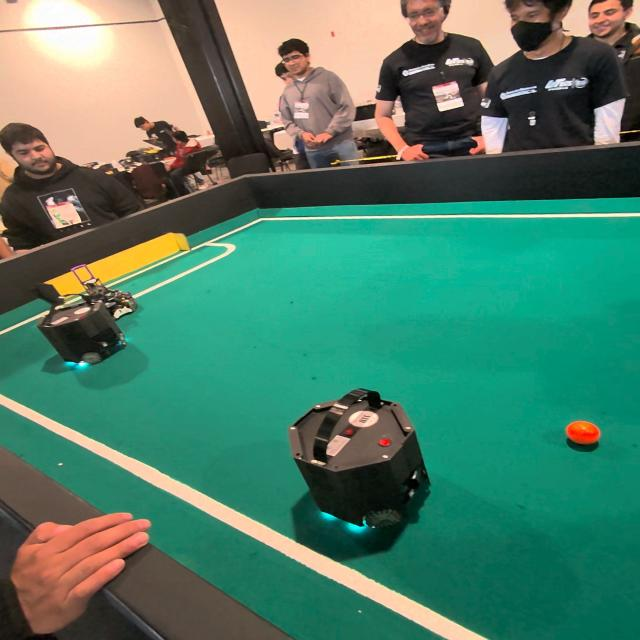Robot: (288, 382, 444, 550), (35, 290, 144, 373), (42, 263, 140, 340), (73, 264, 143, 320)
pelota: (566, 421, 603, 450)
